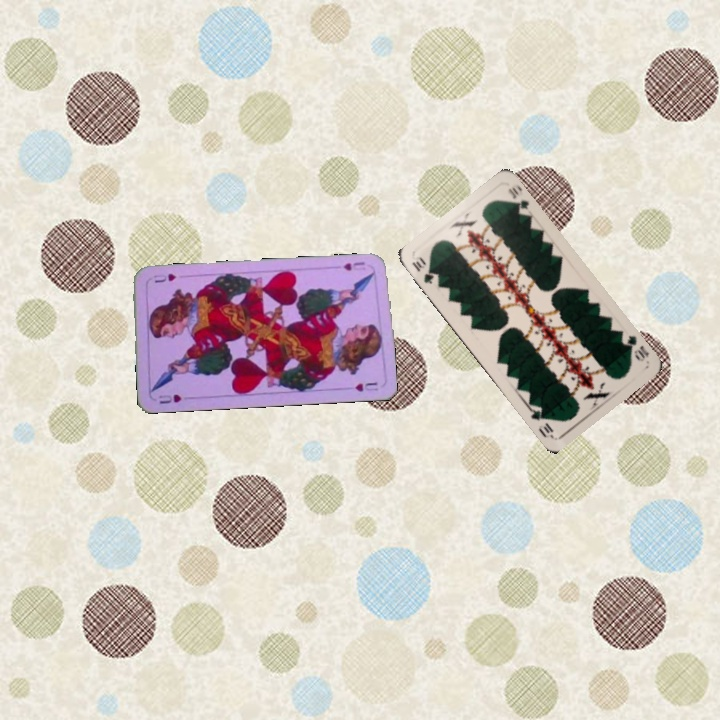G10: (617, 331, 651, 364), (408, 254, 437, 287)
HU: (155, 390, 193, 406), (339, 257, 368, 273)
